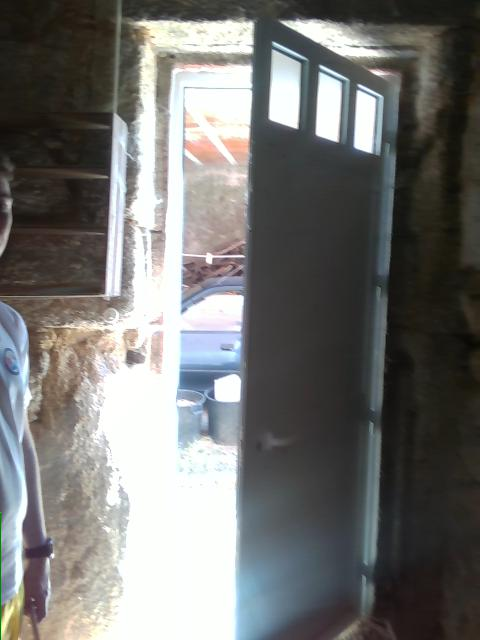semi_door: (163, 5, 402, 639)
